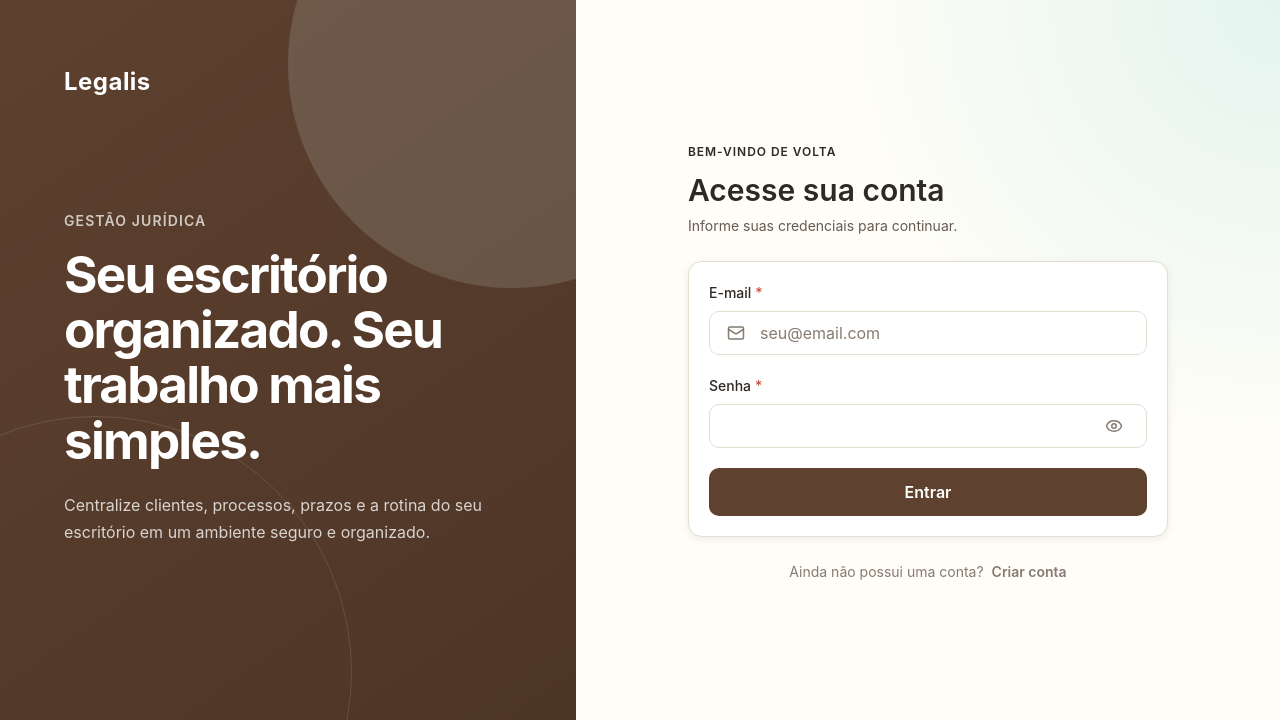
Test: LoginPage › não submete quando senha está vazia
Type "admin@legalis.local" into the field with id "login-email" at (944, 333), box [758,320,1130,346]
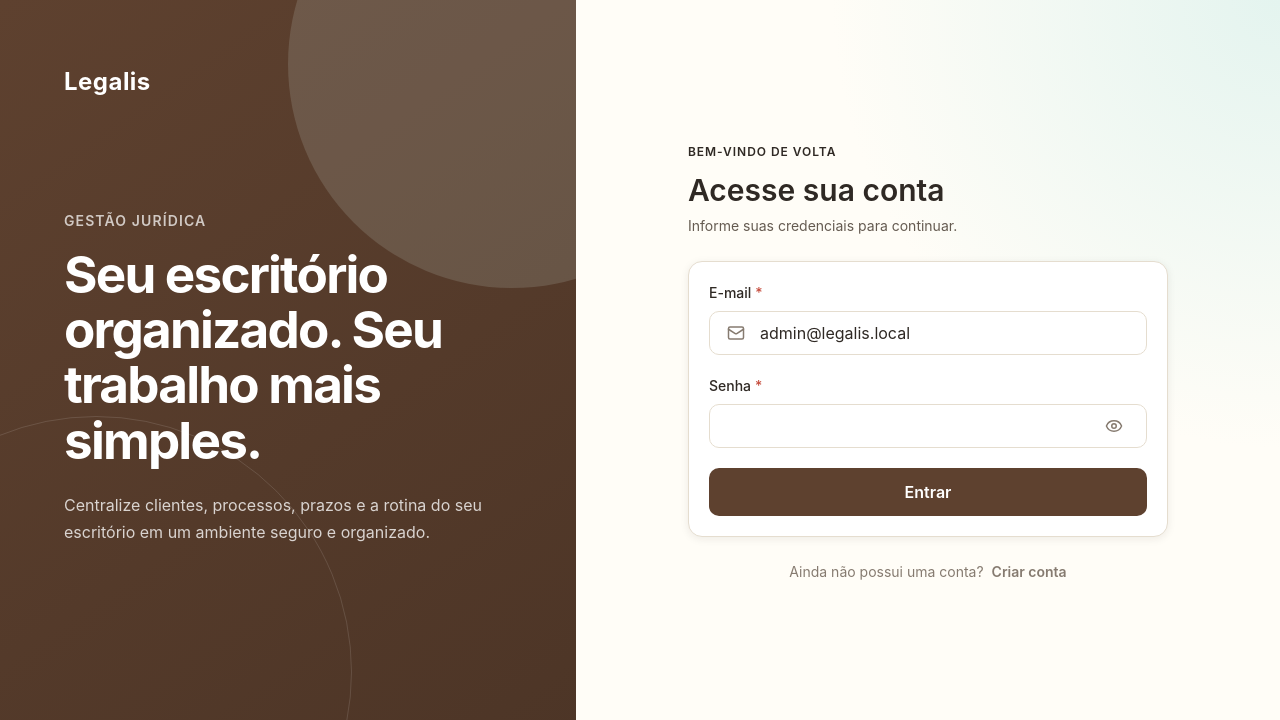
Submit the form, box [709,282,1147,516]
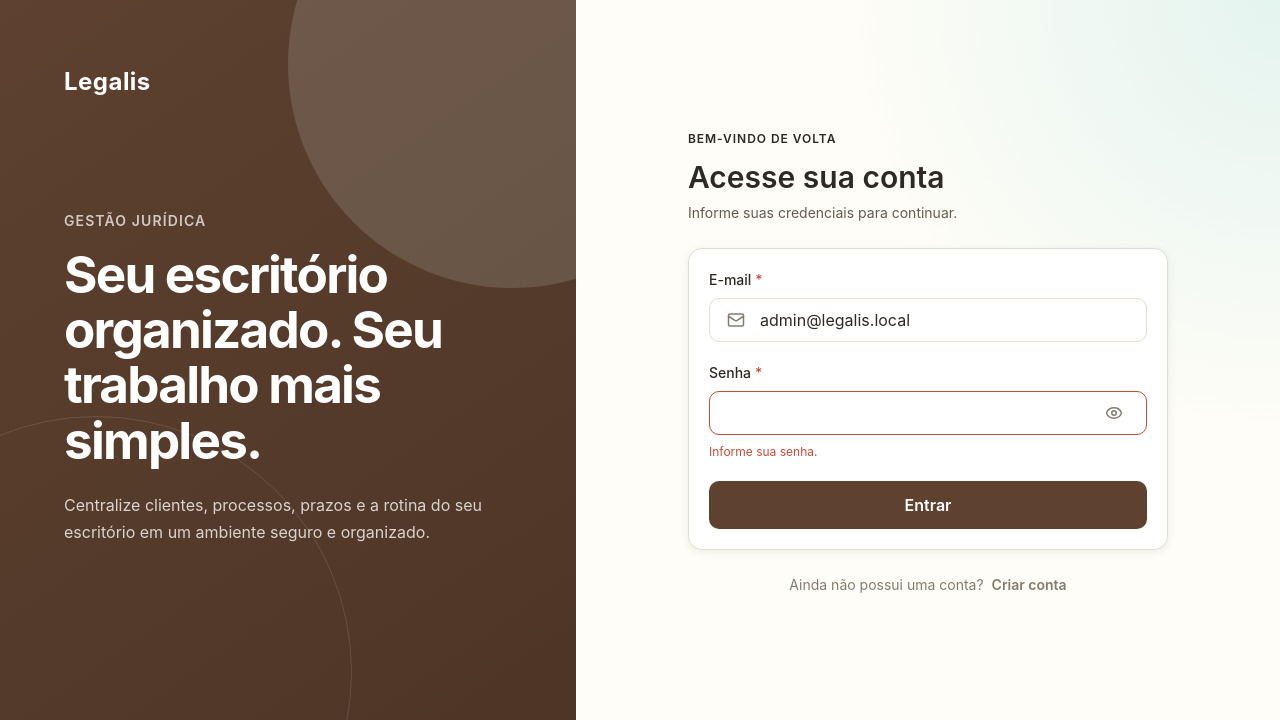
Expected: the text "Informe sua senha." is shown, [709,444,818,459]
